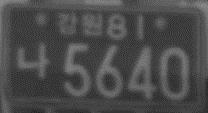0: (160, 46, 190, 101)
1: (131, 14, 148, 37)
4: (127, 46, 157, 101)
5: (62, 42, 92, 96)
6: (94, 44, 124, 97)
8: (107, 13, 127, 39)
강원_O: (56, 12, 104, 37)
나: (15, 42, 50, 78)
